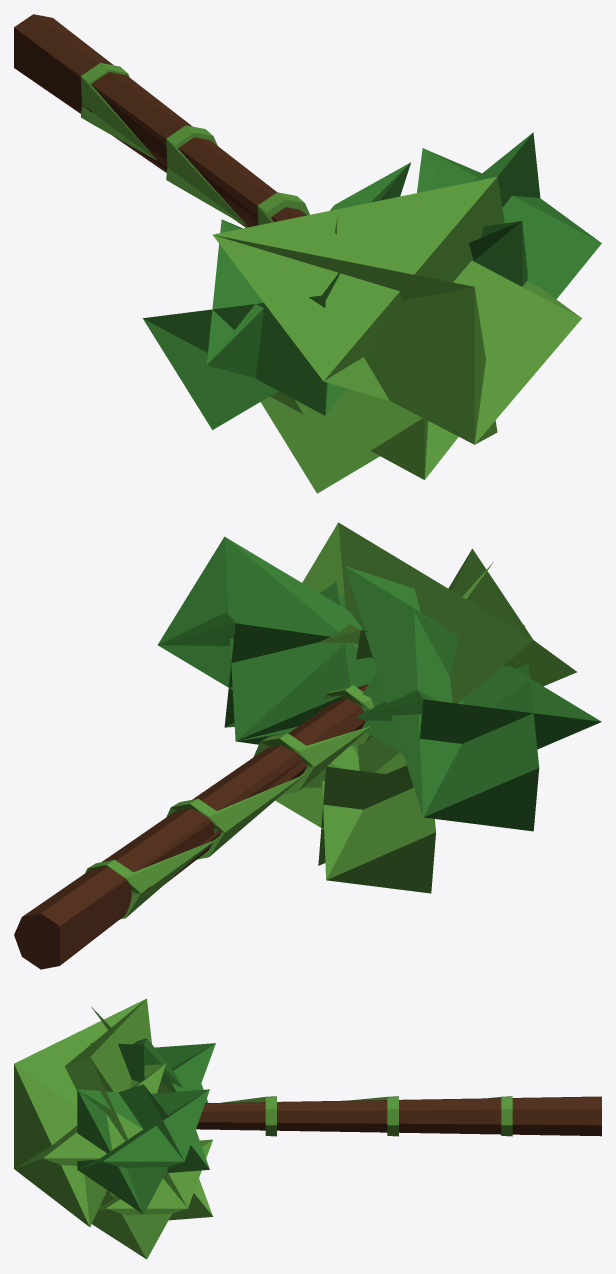
The model's file is birch_lowpoly.obj.
3 views of the same model, one above another, from view 1: azimuth 30°, elevation 25°; view 2: azimuth 150°, elevation 25°; view 3: azimuth 270°, elevation 25° (orthographic). The views are drawn at different scales.
Parts seen in each view (by area): view 1: Birch; view 2: Birch; view 3: Birch.
Part boxes in pixels (left/top/right/bottom): Birch: left=14, top=14, right=601, bottom=493; Birch: left=14, top=522, right=601, bottom=969; Birch: left=14, top=998, right=601, bottom=1259.
Size of the model in its own units: 1.87 by 1.42 by 3.62.
